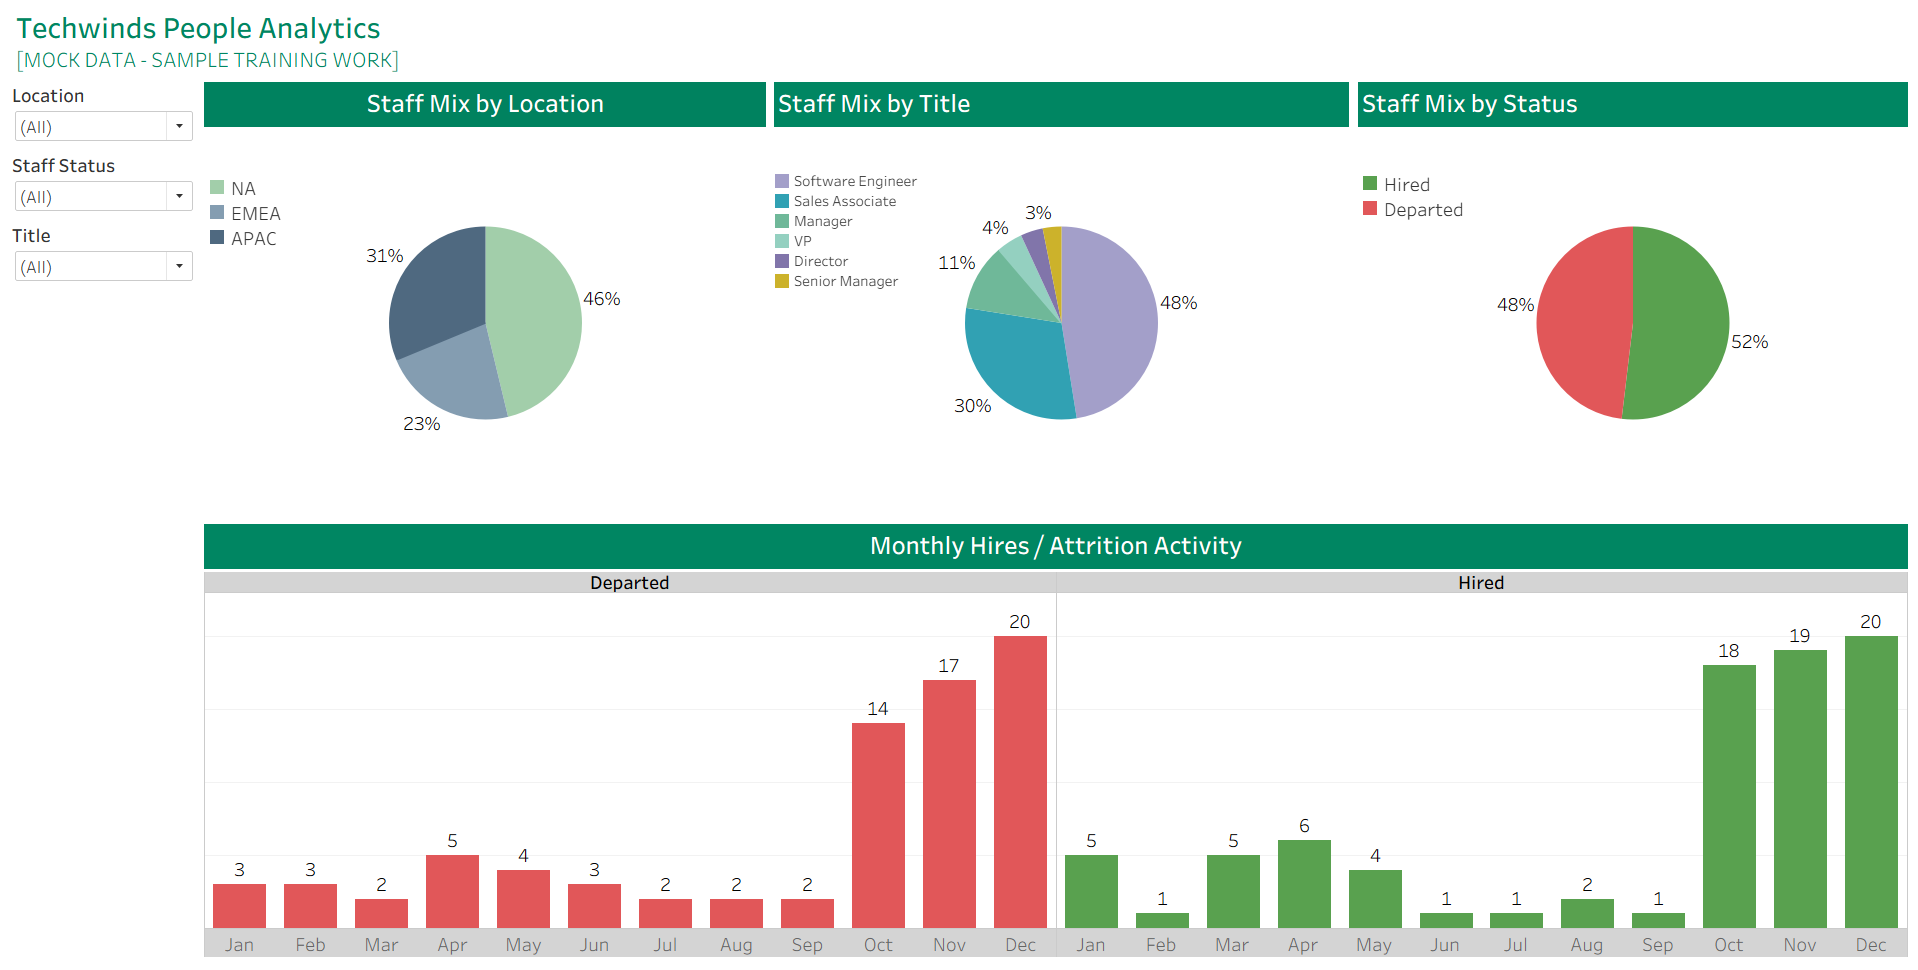

The page's visual inventory and layout, read from the dashboard file:
{"tool":"tableau","page":{"name":"Techwinds_DB","canvas":[1000,1000],"units":"permille","ordinal":0},"visuals":[{"type":"title","box":[4.2,10.7,991.5,100.5]},{"type":"filter","title":"Pie_Location","param":"[federated.06ream71ptntkt1a912l717waysf].[none:Location:nk]","box":[4.2,111.2,99.9,93.8]},{"type":"worksheet","title":"Pie_Location","mark":"Pie","box":[104.1,111.2,297.2,439]},{"type":"worksheet","title":"Pie_Title","mark":"Pie","box":[401.3,111.2,303.7,439]},{"type":"worksheet","title":"Pie_Status","mark":"Pie","box":[705,111.2,290.8,439]},{"type":"legend","title":"Pie_Title","param":"[federated.06ream71ptntkt1a912l717waysf].[none:Title:nk]","box":[402.2,181,101,235.9]},{"type":"legend","title":"Pie_Status","param":"[federated.06ream71ptntkt1a912l717waysf].[none:Staff_Status:nk]","box":[707.2,181,74.4,101.9]},{"type":"legend","title":"Pie_Location","param":"[federated.06ream71ptntkt1a912l717waysf].[none:Location:nk]","box":[106.8,185,74.4,140.8]},{"type":"filter","title":"Pie_Location","param":"[federated.06ream71ptntkt1a912l717waysf].[none:Staff_Status:nk]","box":[4.2,205.1,99.9,93.8]},{"type":"filter","title":"Pie_Location","param":"[federated.06ream71ptntkt1a912l717waysf].[none:Title:nk]","box":[4.2,298.9,99.9,93.8]},{"type":"worksheet","title":"Bar_MonthlyTrends","mark":"Bar","rows":["Employee_ID"],"cols":["Staff_Status","Effective_Date"],"box":[104.1,550.3,891.6,439]}]}

Visuals, with their boxes on the dashboard's canvas, which has no fixed pixel size, in thousandths of its width and height (x1, y1, x2, y2). These are canvas units, not pixel positions in the 1918x970 screenshot, which may show the page scaled, cropped or inside an application window:
title: x1=4 y1=11 x2=996 y2=111
"Pie_Location" filter: x1=4 y1=111 x2=104 y2=205
"Pie_Location" worksheet (Pie marks): x1=104 y1=111 x2=401 y2=550
"Pie_Title" worksheet (Pie marks): x1=401 y1=111 x2=705 y2=550
"Pie_Status" worksheet (Pie marks): x1=705 y1=111 x2=996 y2=550
"Pie_Title" legend: x1=402 y1=181 x2=503 y2=417
"Pie_Status" legend: x1=707 y1=181 x2=782 y2=283
"Pie_Location" legend: x1=107 y1=185 x2=181 y2=326
"Pie_Location" filter: x1=4 y1=205 x2=104 y2=299
"Pie_Location" filter: x1=4 y1=299 x2=104 y2=393
"Bar_MonthlyTrends" worksheet (Bar marks): x1=104 y1=550 x2=996 y2=989
